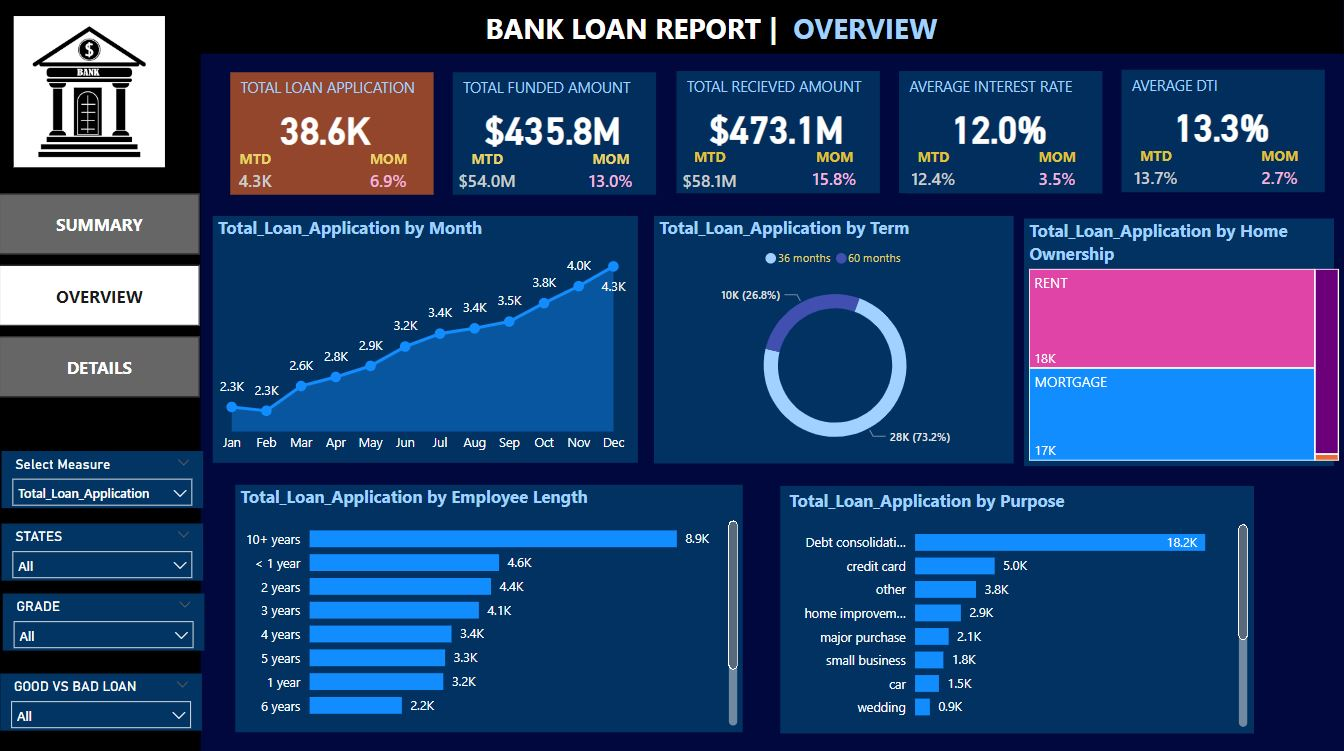

The page's visual inventory and layout, read from the dashboard file:
{"tool":"powerbi","page":{"name":"OVERVIEW","canvas":[1280,720],"ordinal":1},"visuals":[{"type":"shape","box":[0,0,1280.3,54.9],"z":0},{"type":"shape","box":[1068.8,70.2,194,116.6],"z":500,"group":"g5"},{"type":"shape","box":[644.6,71.4,194,116.6],"z":500,"group":"g3"},{"type":"shape","box":[856.7,71.4,194,116.6],"z":500,"group":"g4"},{"type":"shape","box":[220.2,72.6,194,116.6],"z":500,"group":"g1"},{"type":"shape","box":[432.4,72.6,194,116.6],"z":500,"group":"g2"},{"type":"shape","box":[0,54.9,192.1,665.5],"z":1000},{"type":"card","fields":{"Values":["Bank_loan_data.Average_DTI"]},"box":[1087.7,100.4,152.3,46.4],"z":1000,"group":"g5"},{"type":"card","fields":{"Values":["Bank_loan_data.Total_Recieved_Amount"]},"box":[663.4,101.6,152.3,46.4],"z":1000,"group":"g3"},{"type":"card","fields":{"Values":["Bank_loan_data.Average_interest_rate"]},"box":[875.6,101.6,152.3,46.4],"z":1000,"group":"g4"},{"type":"card","fields":{"Values":["Bank_loan_data.Total_Loan_Application"]},"box":[261.1,102.8,100,46.4],"z":1000,"group":"g1"},{"type":"card","fields":{"Values":["Bank_loan_data.TOTAL_FUNDED_AMOUNT"]},"box":[451.3,102.8,152.3,46.4],"z":1000,"group":"g2"},{"type":"shape","box":[203.5,209.5,405,235],"z":2000},{"type":"textbox","box":[458.3,6.9,448.7,48],"z":3000},{"type":"textbox","box":[1073.6,70.2,185.7,30.9],"z":3000,"group":"g5"},{"type":"textbox","box":[649.4,71.4,185.7,30.9],"z":3000,"group":"g3"},{"type":"textbox","box":[861.5,71.4,185.7,30.9],"z":3000,"group":"g4"},{"type":"textbox","box":[224.9,72.6,185.7,30.9],"z":3000,"group":"g1"},{"type":"textbox","box":[437.2,72.6,185.7,30.9],"z":3000,"group":"g2"},{"type":"group","id":"g1","title":"Group 2","box":[216.6,72.6,197.6,116.6],"z":4000},{"type":"group","id":"g2","title":"Group 2","box":[428.7,72.6,197.6,116.6],"z":5000},{"type":"group","id":"g3","title":"Group 2","box":[644.6,71.4,194,116.6],"z":6000},{"type":"card","title":"MTD","fields":{"Values":["Bank_loan_data.MTD_Average_DTI"]},"box":[1065.1,143.3,72.6,44],"z":6000,"group":"g5"},{"type":"card","title":"MTD","fields":{"Values":["Bank_loan_data.MTD_recieved_Amount"]},"box":[645.1,143.5,63.1,41.7],"z":6000,"group":"g3"},{"type":"card","title":"MTD","fields":{"Values":["Bank_loan_data.MTD_Average_Interest_Rate"]},"box":[853,144.5,72.6,44],"z":6000,"group":"g4"},{"type":"card","title":"MTD","fields":{"Values":["Bank_loan_data.MTD_Loan_Application"]},"box":[216.6,145.2,54.7,44],"z":6000,"group":"g1"},{"type":"card","title":"MTD","fields":{"Values":["Bank_loan_data.MTD_Funded_Amount"]},"box":[428.7,145.7,72.6,44],"z":6000,"group":"g2"},{"type":"group","id":"g4","title":"Group 2","box":[853,71.4,197.6,117.8],"z":7000},{"type":"card","title":"MOM","fields":{"Values":["Bank_loan_data.MOM_Average_DTI"]},"box":[1187.9,142.8,63.1,44],"z":7000,"group":"g5"},{"type":"card","title":"MOM","fields":{"Values":["Bank_loan_data.MOM_recieved_amount"]},"box":[763.6,144,63.1,44],"z":7000,"group":"g3"},{"type":"card","title":"MOM","fields":{"Values":["Bank_loan_data.MOM_Average_interest_rate"]},"box":[975.8,144,63.1,44],"z":7000,"group":"g4"},{"type":"card","title":"MOM","fields":{"Values":["Bank_loan_data.MOM_LOAN_APPLICATION"]},"box":[339.2,145.2,63.1,44],"z":7000,"group":"g1"},{"type":"card","title":"MOM","fields":{"Values":["Bank_loan_data.MOM_Funded_Amount"]},"box":[551.5,145.2,63.1,44],"z":7000,"group":"g2"},{"type":"group","id":"g5","title":"Group 2","box":[1065.1,70.2,197.6,117.8],"z":8000},{"type":"slicer","fields":{"Values":["Bank_loan_data.address_state"]},"box":[2.4,502.2,191.6,54.7],"z":9000},{"type":"slicer","fields":{"Values":["Bank_loan_data.grade"]},"box":[3.6,568.9,191.6,54.7],"z":10000},{"type":"slicer","fields":{"Values":["Select Measure.Select Measure"]},"box":[1.2,645,191.6,54.7],"z":11000},{"type":"areaChart","fields":{"Y":["Bank_loan_data.Total_Loan_Application"],"Category":["Date Table.Month"]},"box":[203.5,209.5,399.9,234.4],"z":12000},{"type":"slicer","fields":{"Values":["Select Measure.Select Measure"]},"box":[2.4,433.2,191.6,54.7],"z":13000},{"type":"shape","box":[624,210.1,342.7,235.6],"z":14000,"group":"g8"},{"type":"donutChart","fields":{"Y":["Bank_loan_data.Total_Loan_Application"],"Category":["Bank_loan_data.term"]},"box":[624,210,345.1,235.6],"z":15000,"group":"g8"},{"type":"shape","box":[224.9,465.3,483.2,235.6],"z":16000},{"type":"barChart","fields":{"Y":["Bank_loan_data.Total_Loan_Application"],"Category":["Bank_loan_data.emp_length"]},"box":[224.9,465.3,483.2,234.4],"z":17000},{"type":"shape","box":[744.4,466.9,451,235.6],"z":18000,"group":"g7"},{"type":"barChart","fields":{"Y":["Bank_loan_data.Total_Loan_Application"],"Category":["Bank_loan_data.purpose"]},"box":[747.5,469.5,446.3,232.1],"z":19000,"group":"g7"},{"type":"shape","box":[975.9,211.8,295.1,235.6],"z":20000},{"type":"treemap","fields":{"Group":["Bank_loan_data.home_ownership"],"Values":["Bank_loan_data.Total_Loan_Application"]},"box":[975.9,211.8,304.7,235.6],"z":20001},{"type":"group","id":"g6","title":"Group 3","box":[624,210,345.1,235.7],"z":20003},{"type":"group","id":"g7","title":"Group 4","box":[744.4,466.9,451,235.6],"z":20004},{"type":"image","box":[1.2,14.3,169,153.5],"z":20005},{"type":"pageNavigator","box":[0,188,191.6,195.2],"z":20006},{"type":"group","id":"g8","title":"Group 6","box":[624,210,345.1,235.7],"z":20006,"group":"g6"}]}

Visuals, with their boxes in screenshot pixels (x1, y1, x2, y2), scaled from the page's 1280x720 canvas onto the 1344x751 screenshot:
shape: x1=0 y1=0 x2=1343 y2=57
shape: x1=1122 y1=73 x2=1326 y2=195
shape: x1=677 y1=74 x2=881 y2=196
shape: x1=900 y1=74 x2=1103 y2=196
shape: x1=231 y1=76 x2=435 y2=197
shape: x1=454 y1=76 x2=658 y2=197
shape: x1=0 y1=57 x2=202 y2=750
card - Bank_loan_data.Average_DTI: x1=1142 y1=105 x2=1302 y2=153
card - Bank_loan_data.Total_Recieved_Amount: x1=697 y1=106 x2=856 y2=154
card - Bank_loan_data.Average_interest_rate: x1=919 y1=106 x2=1079 y2=154
card - Bank_loan_data.Total_Loan_Application: x1=274 y1=107 x2=379 y2=156
card - Bank_loan_data.TOTAL_FUNDED_AMOUNT: x1=474 y1=107 x2=634 y2=156
shape: x1=214 y1=219 x2=639 y2=464
textbox: x1=481 y1=7 x2=952 y2=57
textbox: x1=1127 y1=73 x2=1322 y2=105
textbox: x1=682 y1=74 x2=877 y2=107
textbox: x1=905 y1=74 x2=1100 y2=107
textbox: x1=236 y1=76 x2=431 y2=108
textbox: x1=459 y1=76 x2=654 y2=108
"Group 2" group: x1=227 y1=76 x2=435 y2=197
"Group 2" group: x1=450 y1=76 x2=658 y2=197
"Group 2" group: x1=677 y1=74 x2=881 y2=196
"MTD" card: x1=1118 y1=149 x2=1195 y2=195
"MTD" card: x1=677 y1=150 x2=744 y2=193
"MTD" card: x1=896 y1=151 x2=972 y2=197
"MTD" card: x1=227 y1=151 x2=285 y2=197
"MTD" card: x1=450 y1=152 x2=526 y2=198
"Group 2" group: x1=896 y1=74 x2=1103 y2=197
"MOM" card: x1=1247 y1=149 x2=1314 y2=195
"MOM" card: x1=802 y1=150 x2=868 y2=196
"MOM" card: x1=1025 y1=150 x2=1091 y2=196
"MOM" card: x1=356 y1=151 x2=422 y2=197
"MOM" card: x1=579 y1=151 x2=645 y2=197
"Group 2" group: x1=1118 y1=73 x2=1326 y2=196
slicer - Bank_loan_data.address_state: x1=3 y1=524 x2=204 y2=581
slicer - Bank_loan_data.grade: x1=4 y1=593 x2=205 y2=650
slicer - Select Measure.Select Measure: x1=1 y1=673 x2=202 y2=730
areaChart - Bank_loan_data.Total_Loan_Application x Date Table.Month: x1=214 y1=219 x2=634 y2=463
slicer - Select Measure.Select Measure: x1=3 y1=452 x2=204 y2=509
shape: x1=655 y1=219 x2=1015 y2=465
donutChart - Bank_loan_data.Total_Loan_Application x Bank_loan_data.term: x1=655 y1=219 x2=1018 y2=465
shape: x1=236 y1=485 x2=744 y2=731
barChart - Bank_loan_data.Total_Loan_Application x Bank_loan_data.emp_length: x1=236 y1=485 x2=744 y2=730
shape: x1=782 y1=487 x2=1255 y2=733
barChart - Bank_loan_data.Total_Loan_Application x Bank_loan_data.purpose: x1=785 y1=490 x2=1253 y2=732
shape: x1=1025 y1=221 x2=1335 y2=467
treemap - Bank_loan_data.home_ownership x Bank_loan_data.Total_Loan_Application: x1=1025 y1=221 x2=1343 y2=467
"Group 3" group: x1=655 y1=219 x2=1018 y2=465
"Group 4" group: x1=782 y1=487 x2=1255 y2=733
image: x1=1 y1=15 x2=179 y2=175
pageNavigator: x1=0 y1=196 x2=201 y2=400
"Group 6" group: x1=655 y1=219 x2=1018 y2=465
